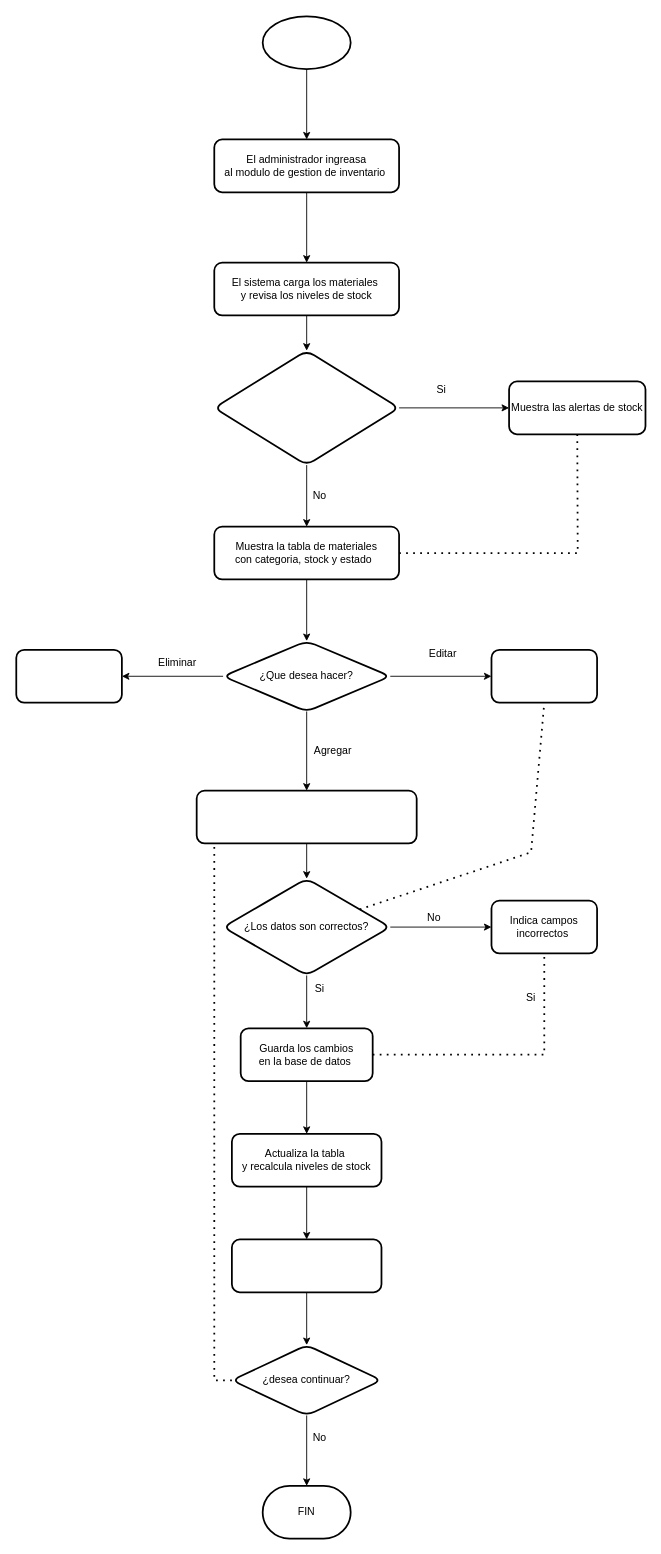
Image size: 661x1554. Some labels were removed from this diagram. Each missing label, with the box of its shape:
Abre formulario nuevo material nombre, categoria, stock, minimo, maximo: (195, 789, 417, 844)
Carga datos del material: (490, 649, 598, 703)
Confirmar eliminacion: (15, 649, 122, 703)
INICIO: (261, 15, 351, 70)
Muestra mensajes de exito al administrador: (231, 1238, 382, 1293)
¿Hay materiales con stock bajo?: (213, 349, 400, 466)
